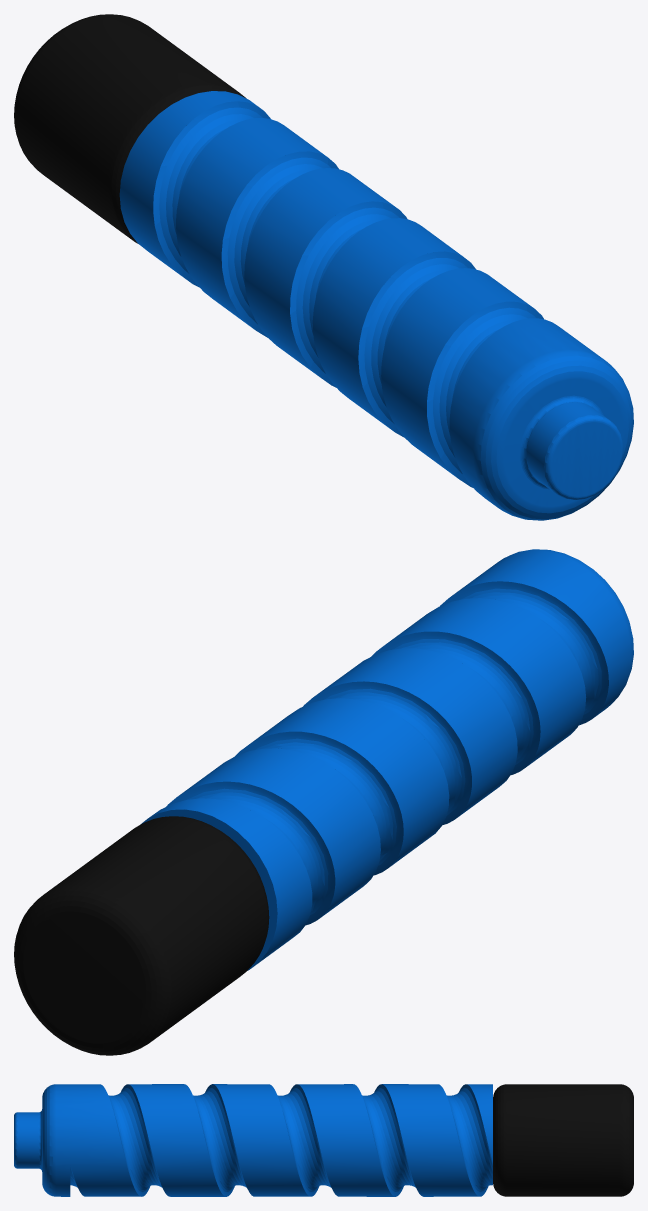
The model's file is toner-2.dae.
3 views of the same model, one above another, from view 1: azimuth 30°, elevation 25°; view 2: azimuth 150°, elevation 25°; view 3: azimuth 270°, elevation 25° (orthographic). The views are drawn at different scales.
Visible parts, largest first — view 1: pivot24, pivot25; view 2: pivot24, pivot25; view 3: pivot24, pivot25.
Boxes of the visible parts, box(x1,y1,x2,y2) form: pivot24: box(119, 91, 633, 520); pivot25: box(14, 14, 246, 243); pivot24: box(140, 549, 633, 970); pivot25: box(14, 816, 269, 1055); pivot24: box(14, 1084, 492, 1196); pivot25: box(493, 1084, 633, 1196).
Bounding box in the file's own units: 11.34 × 11.34 × 62.36.
